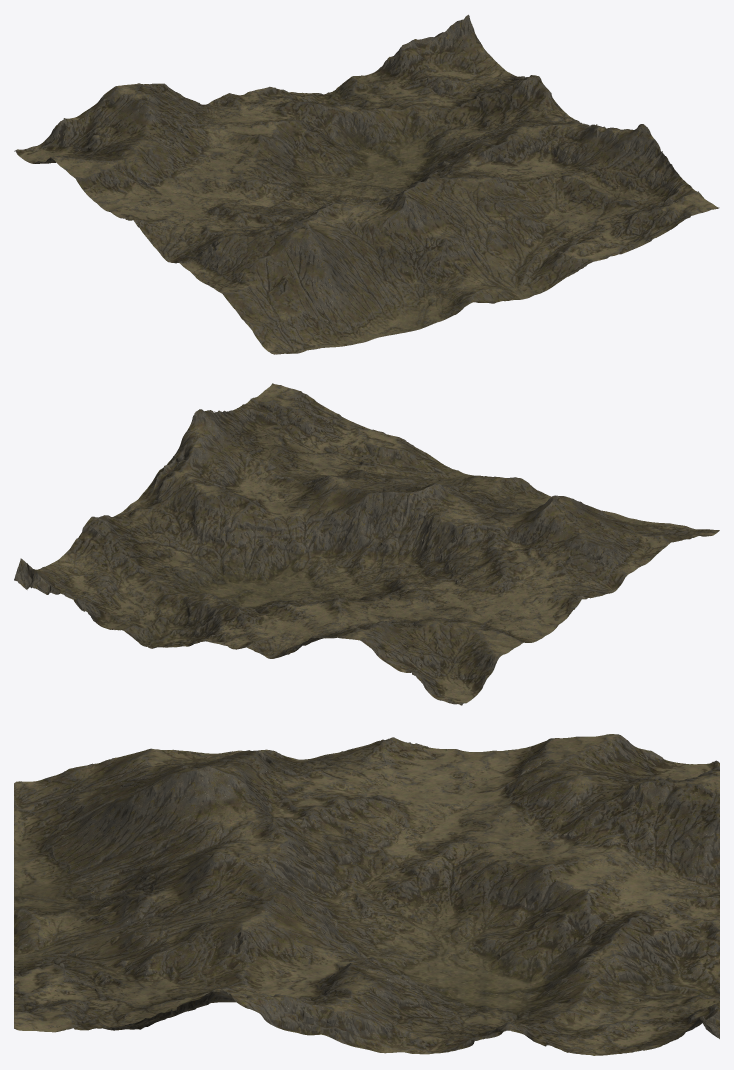
The model's file is SM_Backdrop.fbx.
3 renders of one model, top to bottom at view 1: azimuth 30°, elevation 25°; view 2: azimuth 150°, elevation 25°; view 3: azimuth 270°, elevation 25°, orthographic. The views are drawn at different scales.
Parts seen in each view (by area): view 1: SM_Backdrop_LOD0; view 2: SM_Backdrop_LOD0; view 3: SM_Backdrop_LOD0.
Part boxes in pixels (x1,y1,x2,y2): SM_Backdrop_LOD0: (14,14,719,354); SM_Backdrop_LOD0: (14,383,719,705); SM_Backdrop_LOD0: (14,734,719,1055).
Bounding box in the file's own units: 9995 × 9995 × 1627.
1 material, 1 textured.
